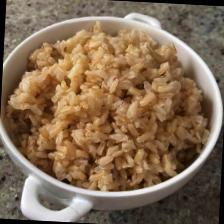rice: (0, 16, 216, 196)
